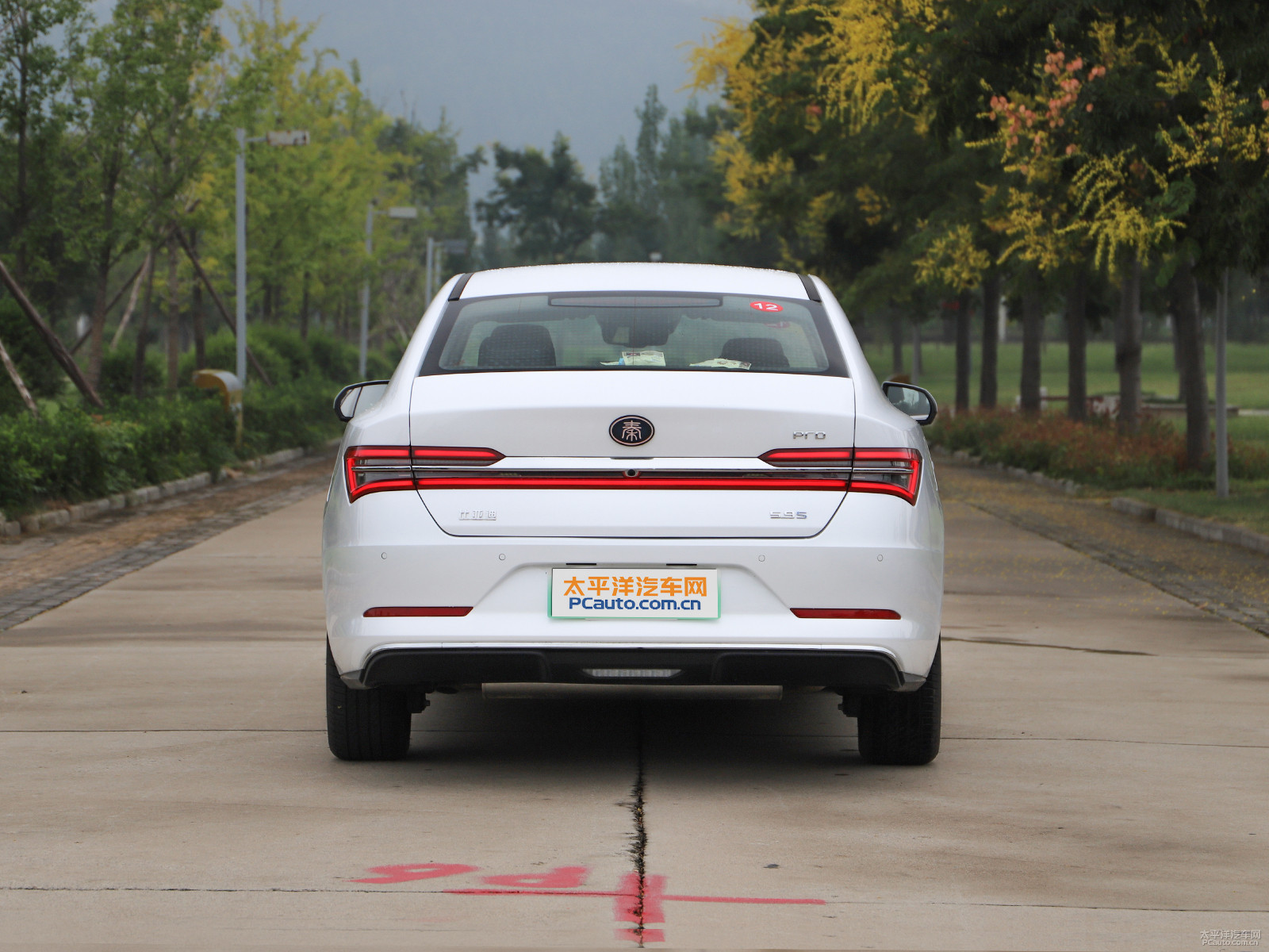BYD Qin: (609, 415, 655, 446)
